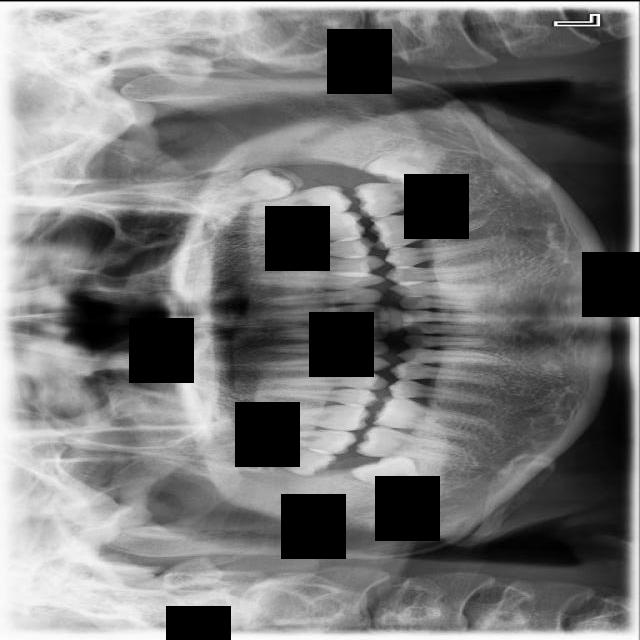3M ESPE Implant: (232, 438, 337, 479)
73: (560, 34, 568, 38)
BioHorizons Implant: (230, 184, 354, 215)
BioLife Implant: (190, 162, 297, 212)
Biomet 3i Implant: (362, 127, 457, 205)
Blue Sky Bio Implant: (351, 175, 465, 220)
Caries: (238, 424, 358, 455)
Implant: (354, 423, 466, 464)
Keystone Dental Implant: (348, 437, 437, 508)
